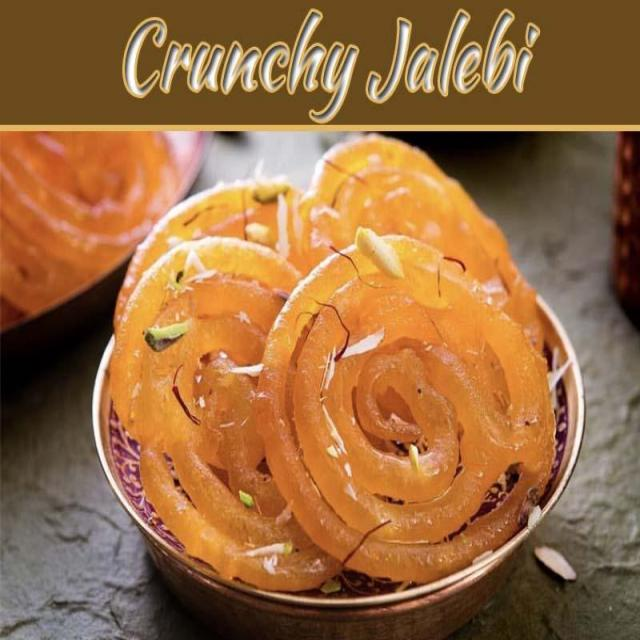jalebi: (124, 150, 547, 562)
